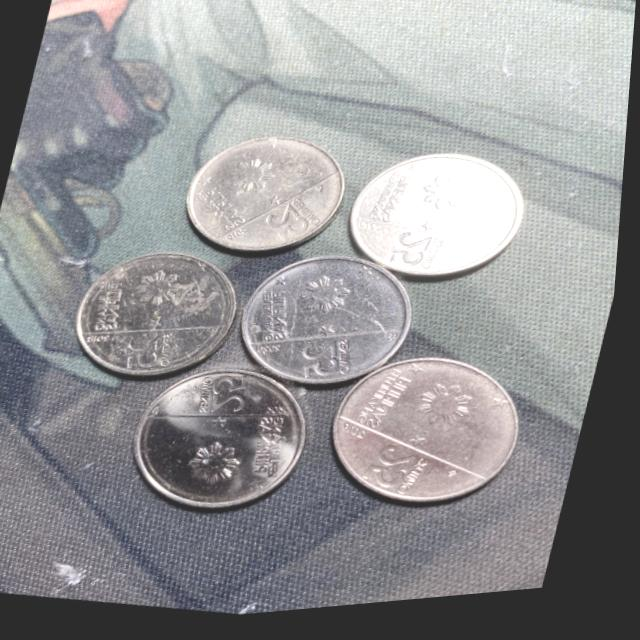25Cent_New_Front: (367, 443, 431, 499), (206, 370, 258, 423), (384, 235, 439, 280), (301, 338, 349, 387), (266, 206, 315, 249), (125, 332, 170, 377)
